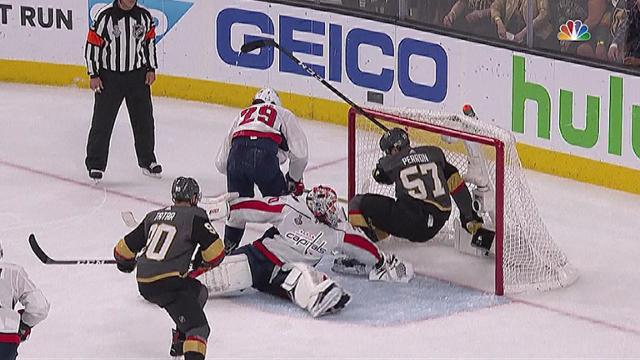geico: (212, 5, 460, 109)
